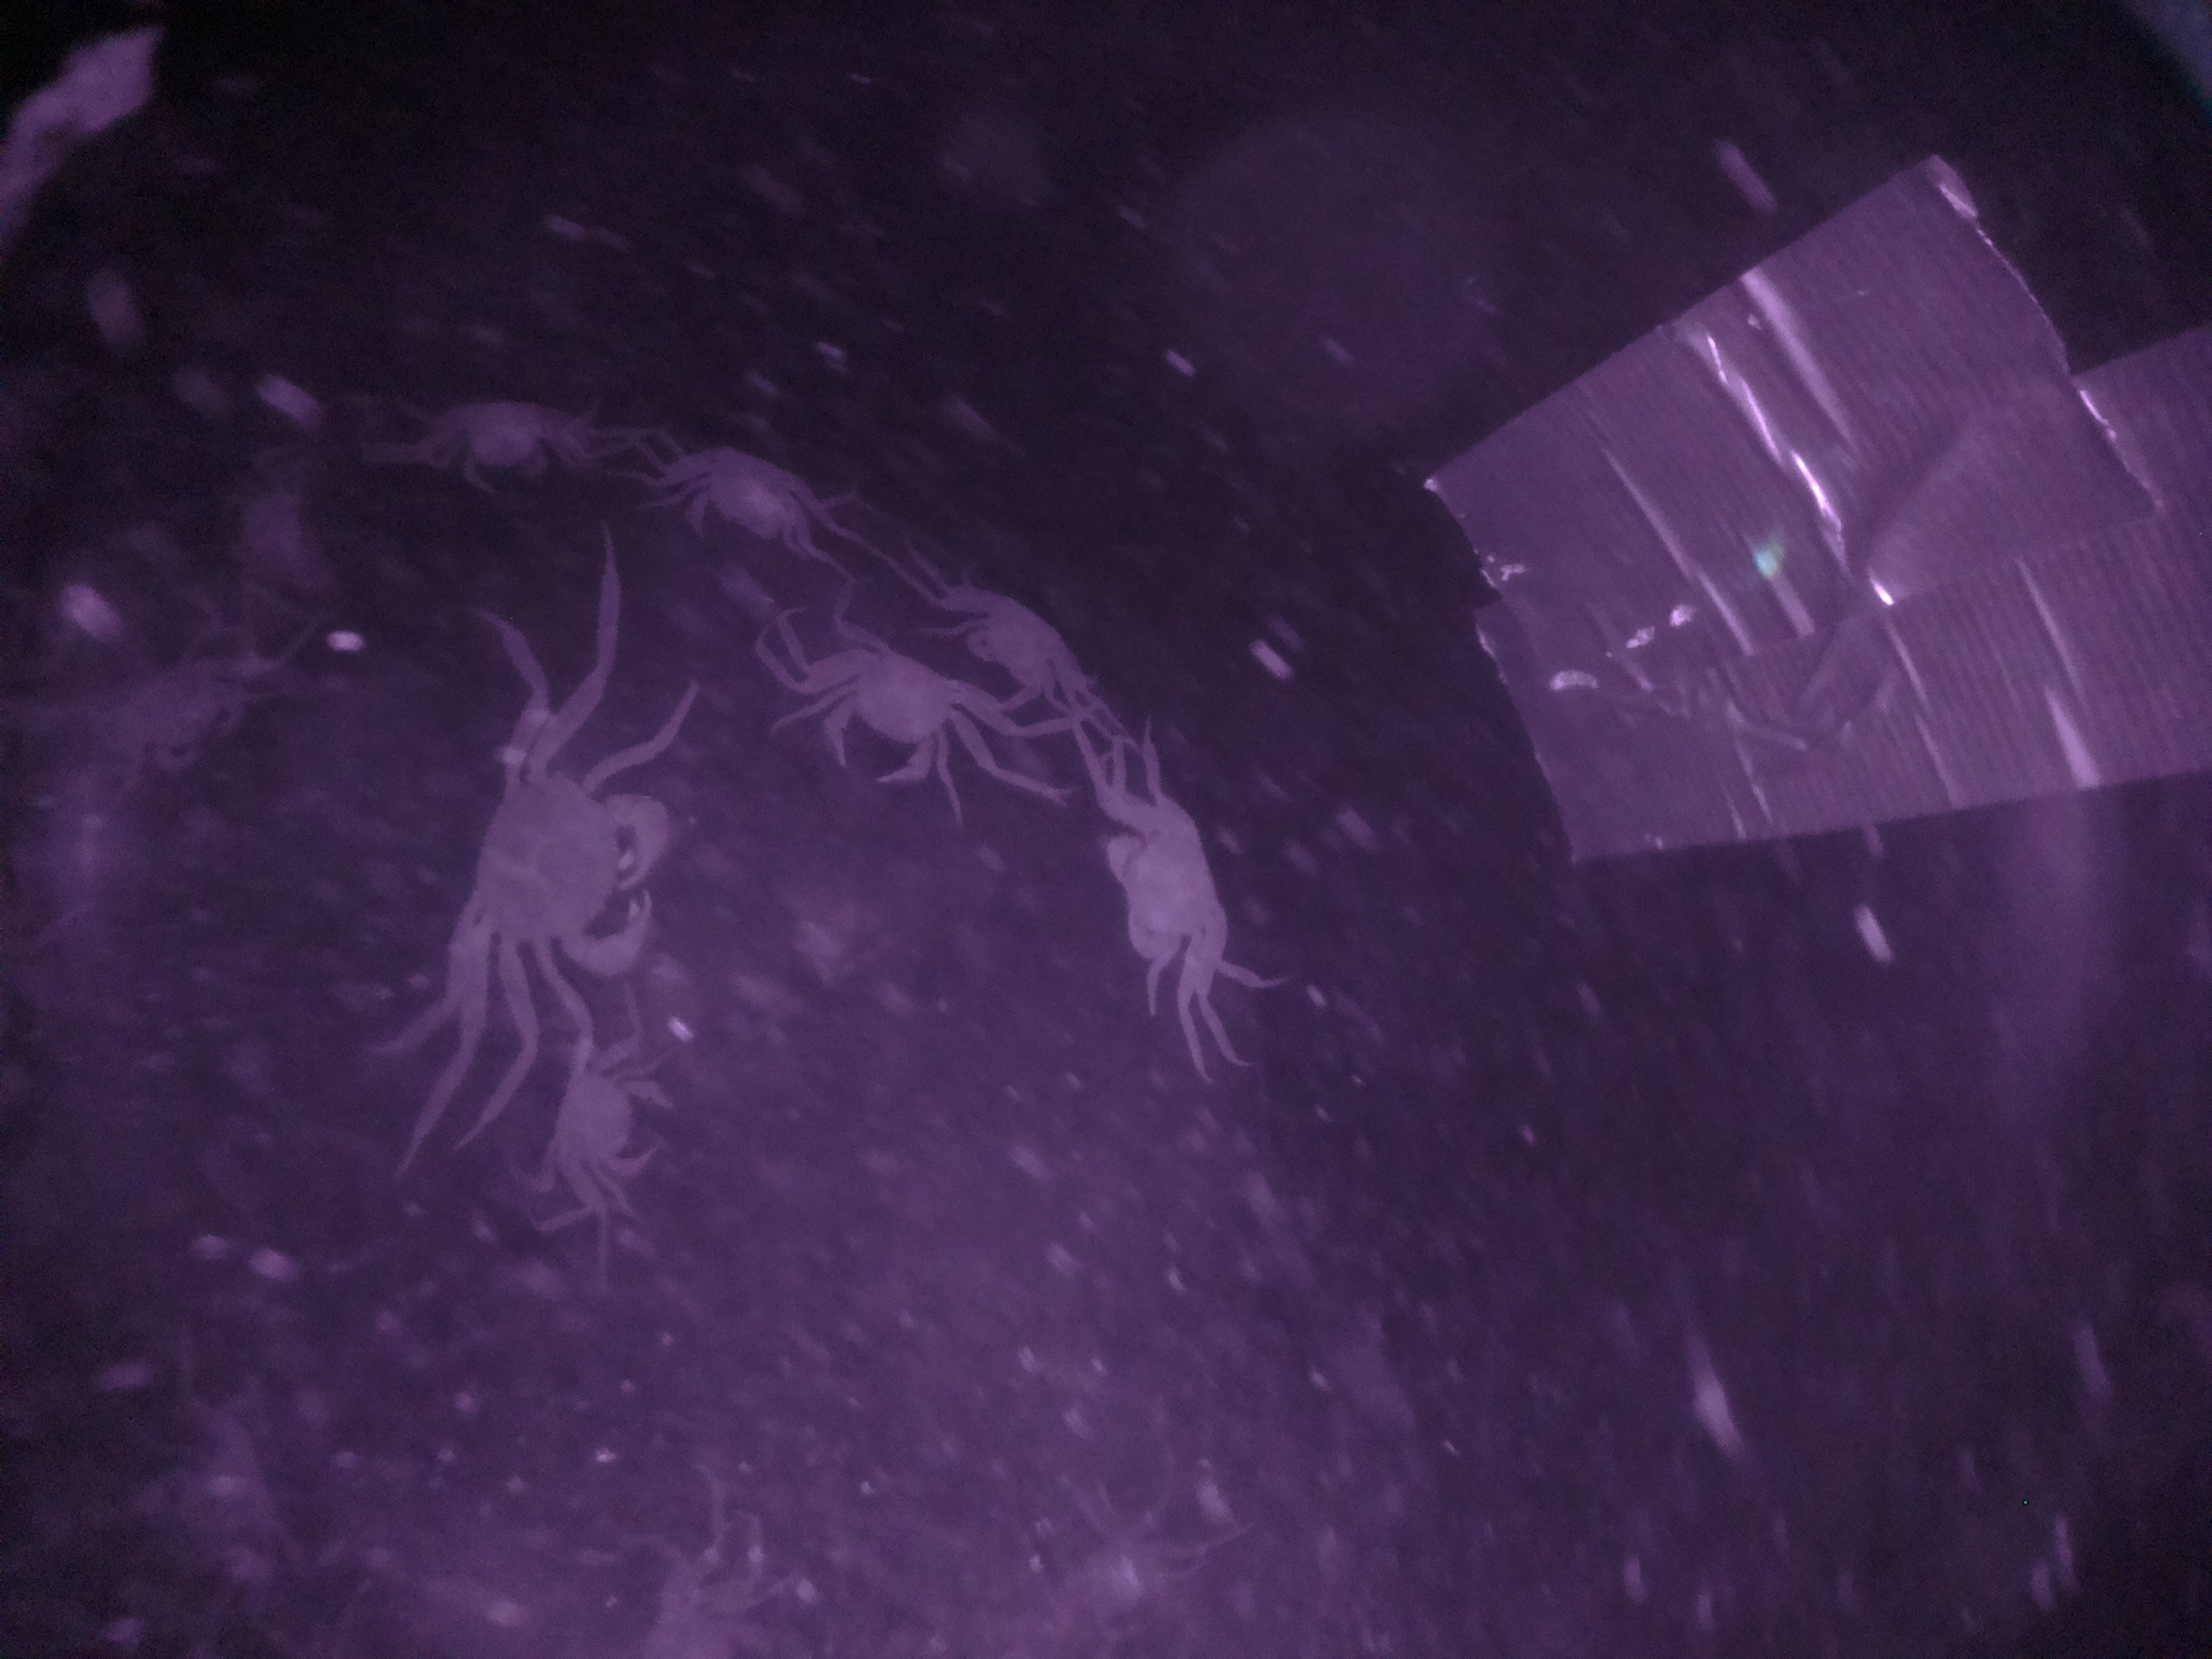Crab: (428, 748, 686, 995), (782, 627, 984, 791), (1097, 772, 1238, 1000), (653, 432, 829, 566), (538, 1040, 681, 1188)
